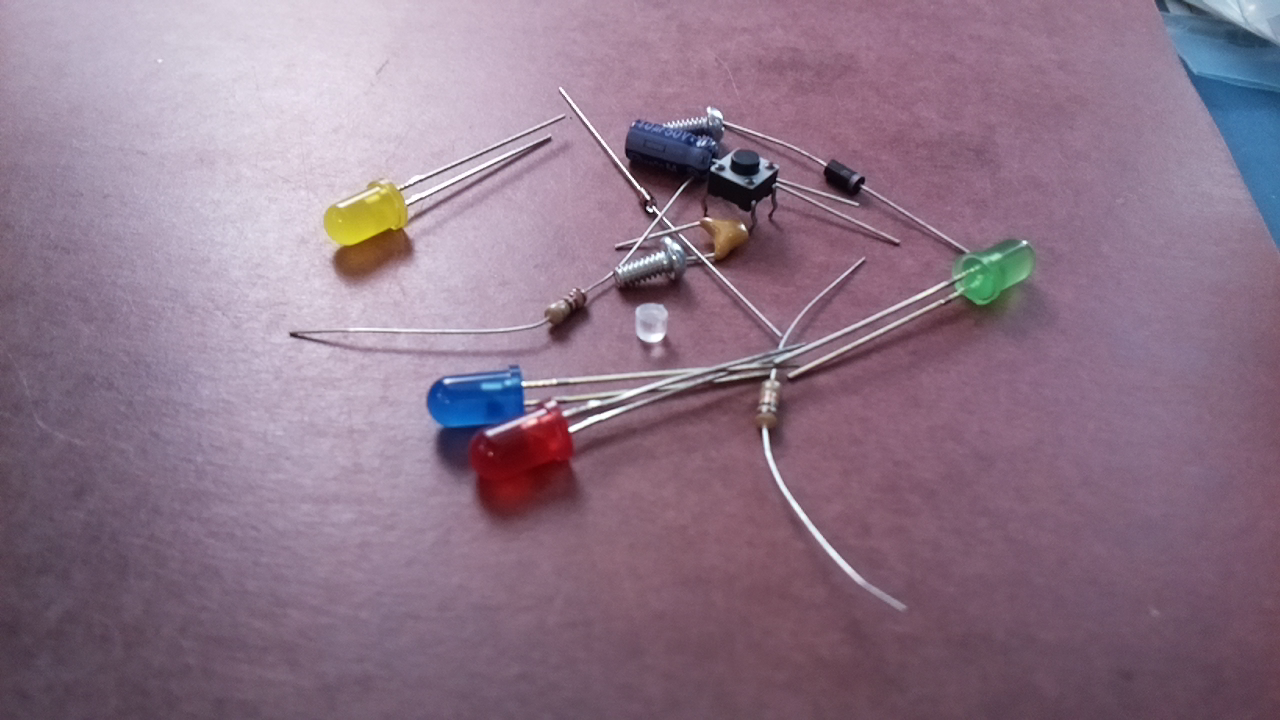button: (706, 142, 781, 208)
capacitor: (619, 118, 721, 182), (695, 214, 751, 267)
diode: (819, 156, 871, 198), (631, 181, 663, 220)
led: (467, 394, 580, 492), (317, 173, 419, 253), (426, 359, 531, 434), (949, 234, 1039, 309)
resistor: (544, 285, 587, 330), (754, 375, 783, 435)
